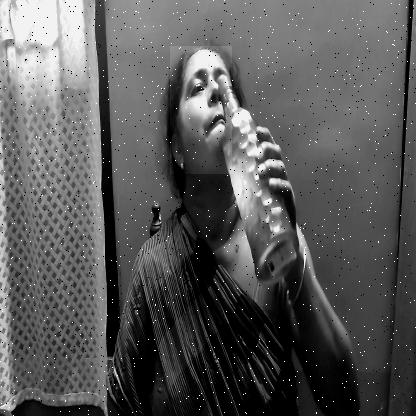Distracted: (170, 46, 232, 174)
